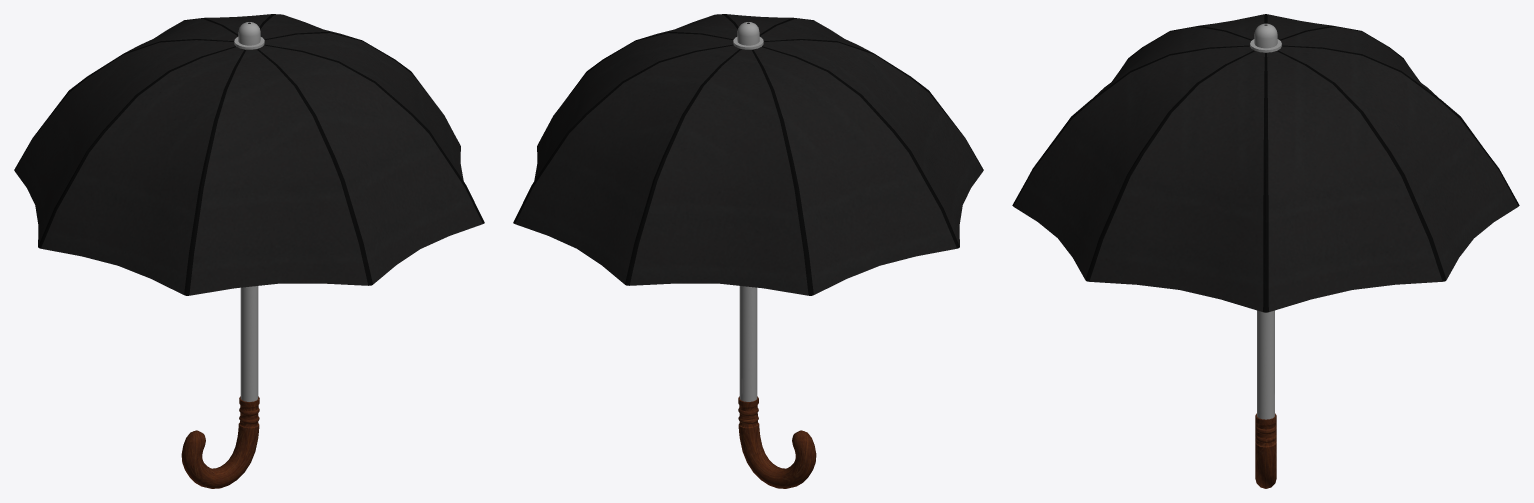
The model's file is umbrellalow.glb.
3 renders of one model, left to right at view 1: azimuth 30°, elevation 25°; view 2: azimuth 150°, elevation 25°; view 3: azimuth 270°, elevation 25°, orthographic. The views are drawn at different scales.
Visible parts, largest first — view 1: Circle.001; view 2: Circle.001; view 3: Circle.001.
Part boxes in pixels (<box>): Circle.001: <box>14,14,484,488</box>; Circle.001: <box>513,14,983,488</box>; Circle.001: <box>1012,14,1519,488</box>.
Bounding box in the file's own units: 2.25 × 2.33 × 2.25.
1 material, 1 textured.
